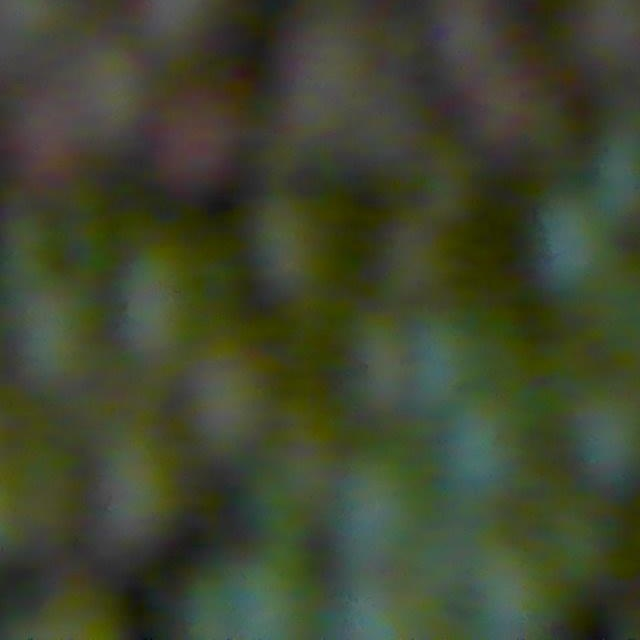SeaGrape: (326, 449, 426, 565), (531, 487, 627, 606), (537, 194, 637, 306), (242, 192, 343, 300), (180, 348, 278, 455), (158, 112, 258, 212), (39, 126, 139, 226), (0, 86, 99, 186), (134, 261, 226, 365), (0, 283, 91, 387), (89, 439, 174, 546), (401, 309, 482, 402), (434, 395, 519, 480), (441, 487, 522, 576), (565, 390, 640, 486), (345, 328, 419, 424), (426, 0, 516, 76), (493, 554, 564, 639), (337, 565, 430, 621)
